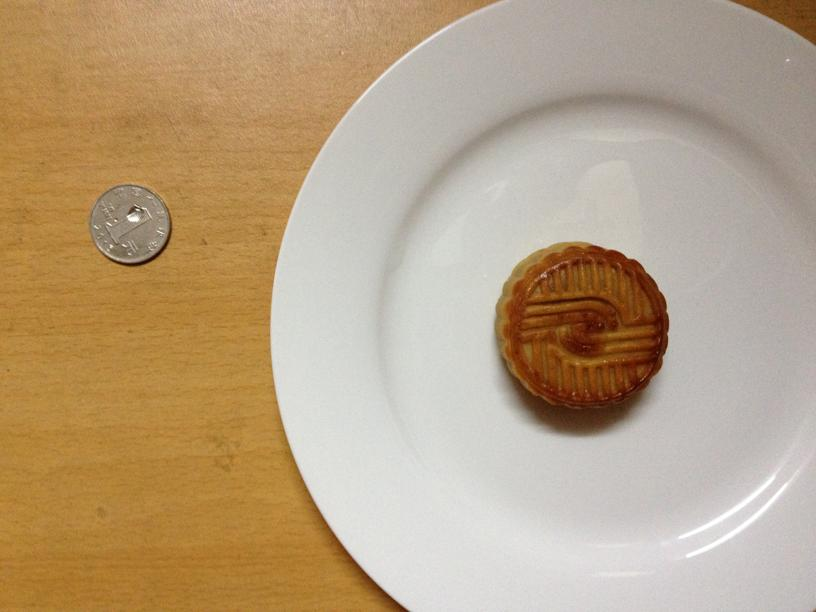coin: (88, 185, 170, 265)
mooncake: (496, 244, 668, 410)
